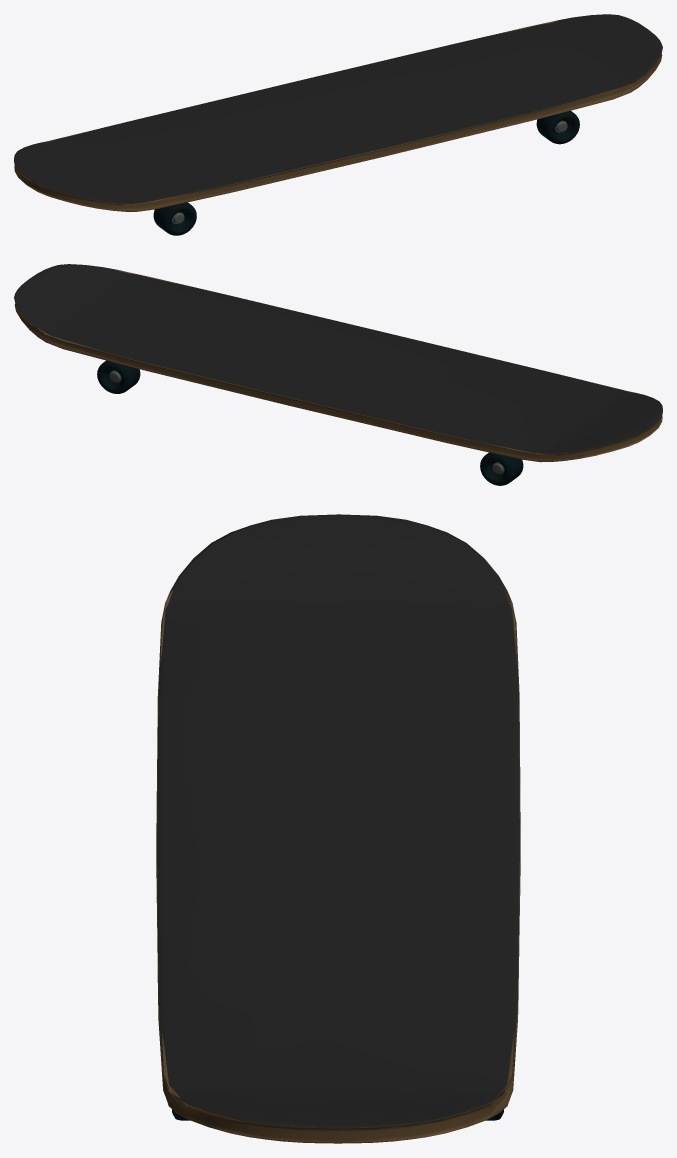
Rendered from SkateBoard.fbx.
3 renders of one model, top to bottom at view 1: azimuth 30°, elevation 25°; view 2: azimuth 150°, elevation 25°; view 3: azimuth 270°, elevation 25°, orthographic. The views are drawn at different scales.
Visible parts, largest first — view 1: Plane.005, Circle.025, Circle.017; view 2: Plane.005, Circle.018, Circle.008; view 3: Plane.005.
Part boxes in pixels (left/top/right/bottom): Plane.005: left=14, top=14, right=662, bottom=211; Circle.025: left=153, top=202, right=196, bottom=235; Circle.017: left=536, top=110, right=579, bottom=144; Plane.005: left=14, top=264, right=662, bottom=462; Circle.018: left=480, top=452, right=523, bottom=485; Circle.008: left=97, top=360, right=140, bottom=393; Plane.005: left=156, top=514, right=520, bottom=1143.
Bounding box in the file's own units: 828 × 74.8 × 210.
